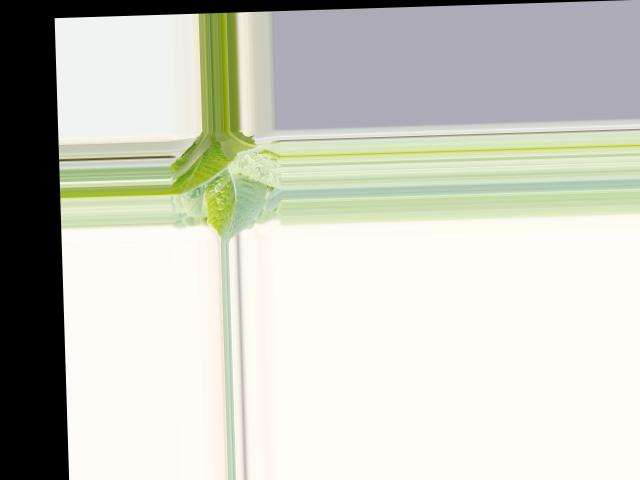lettuce: (170, 128, 272, 234)
